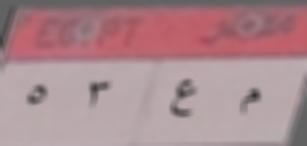3: (85, 77, 114, 114)
5: (21, 75, 53, 113)
ain: (166, 76, 198, 123)
meem: (236, 80, 261, 123)
